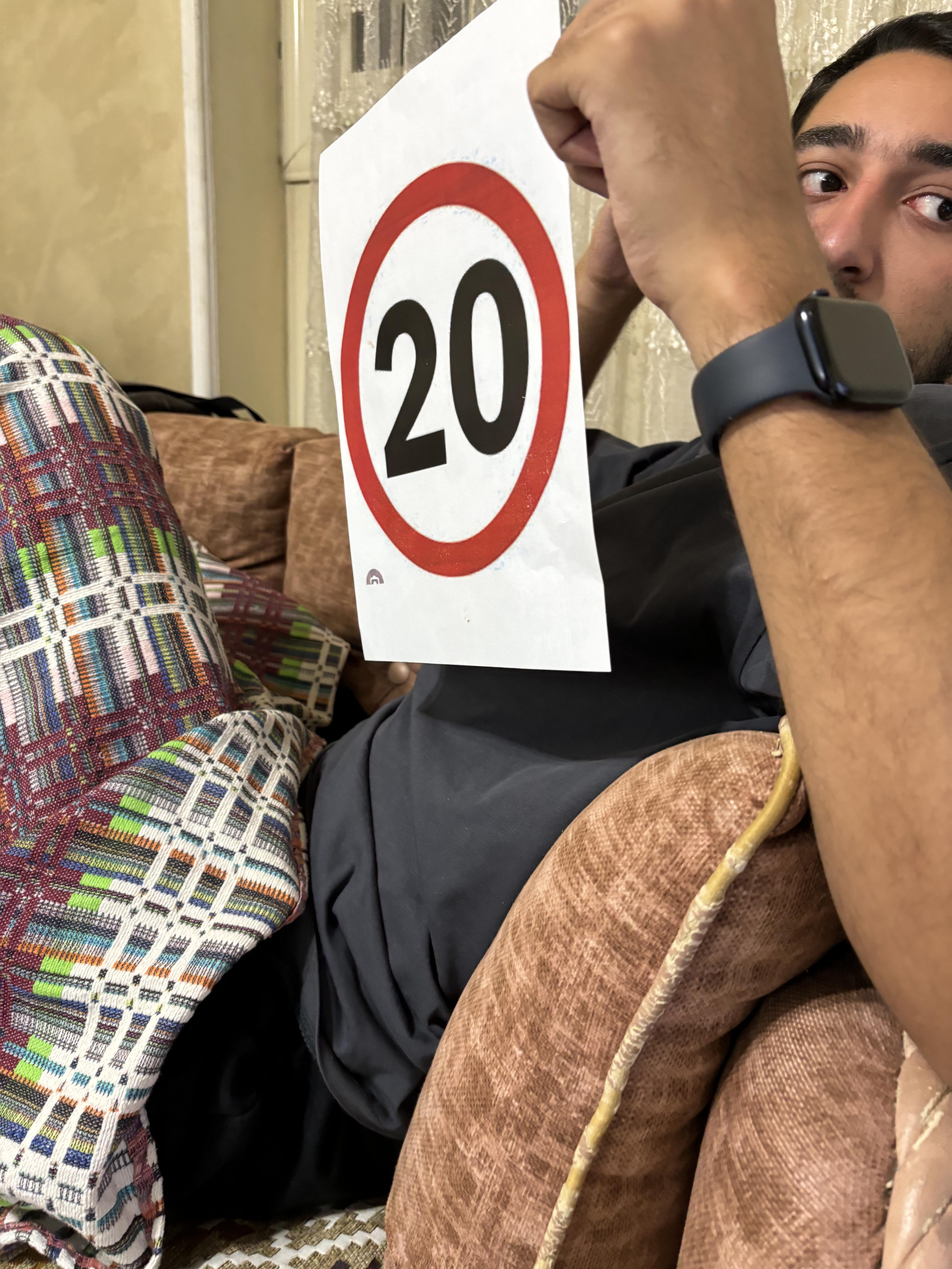20-Speed: (337, 149, 580, 584)
